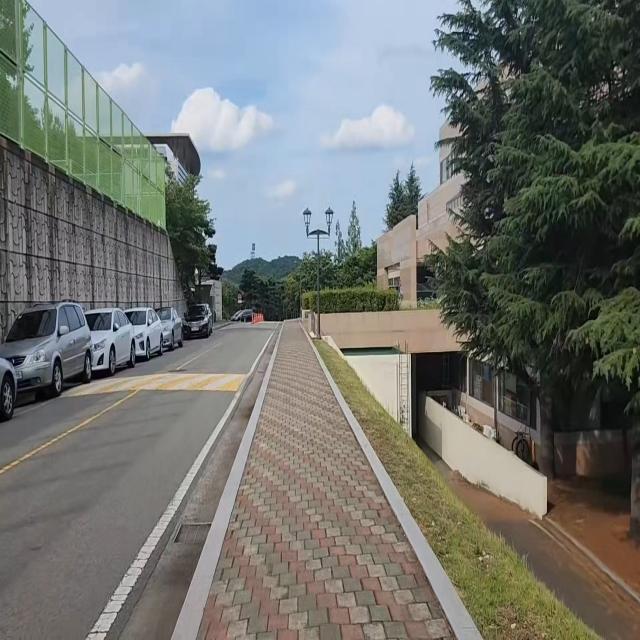obstacle: (0, 301, 221, 424)
road: (0, 324, 281, 640)
sidewalk: (172, 319, 483, 640)
